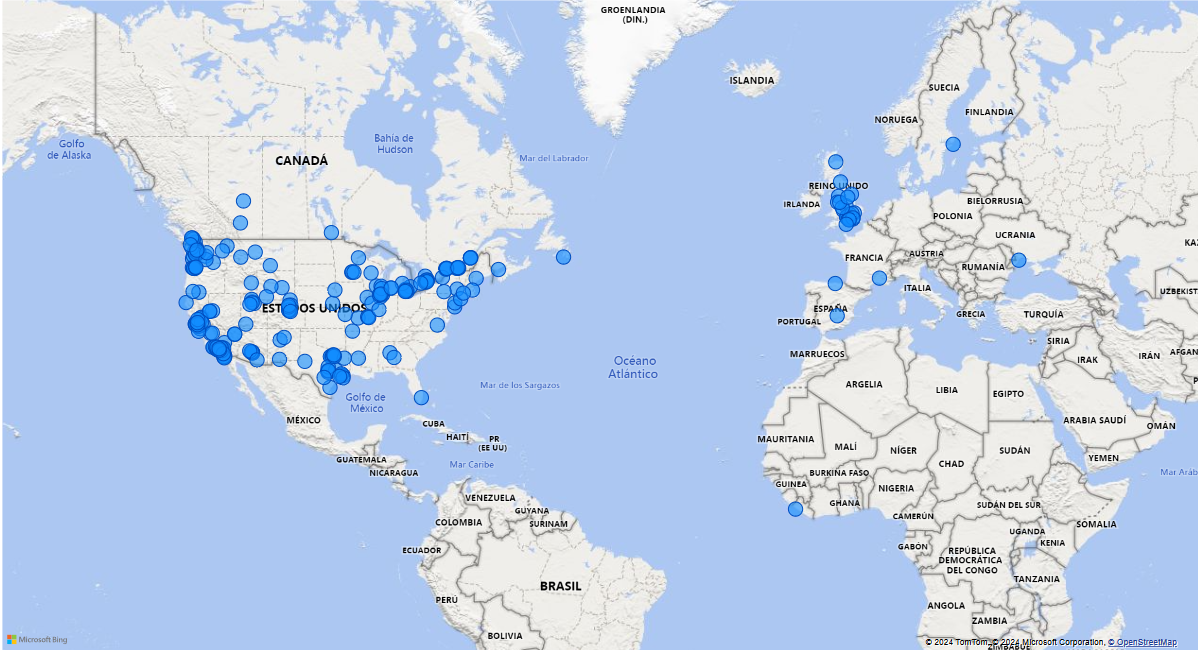

The page's visual inventory and layout, read from the dashboard file:
{"tool":"powerbi","page":{"name":"Página 2","canvas":[1280,720],"ordinal":1},"visuals":[{"type":"map","fields":{"Category":["Address.City"]},"box":[0,0,1280,720],"z":0}]}

Visuals, with their boxes on the page's 1280x720 design canvas (x1, y1, x2, y2). These are canvas units, not pixel positions in the 1198x650 screenshot, which may show the page scaled, cropped or inside an application window:
map - Address.City: bbox=(0, 0, 1280, 720)
